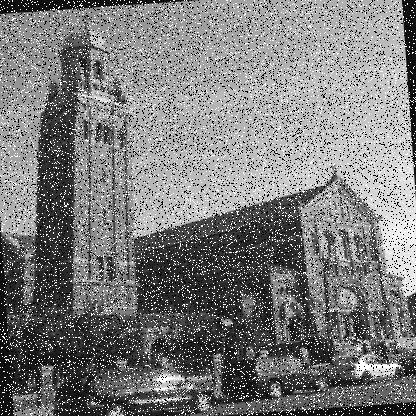Car: (50, 361, 216, 415), (220, 350, 332, 400), (325, 351, 404, 388), (398, 348, 415, 377)
